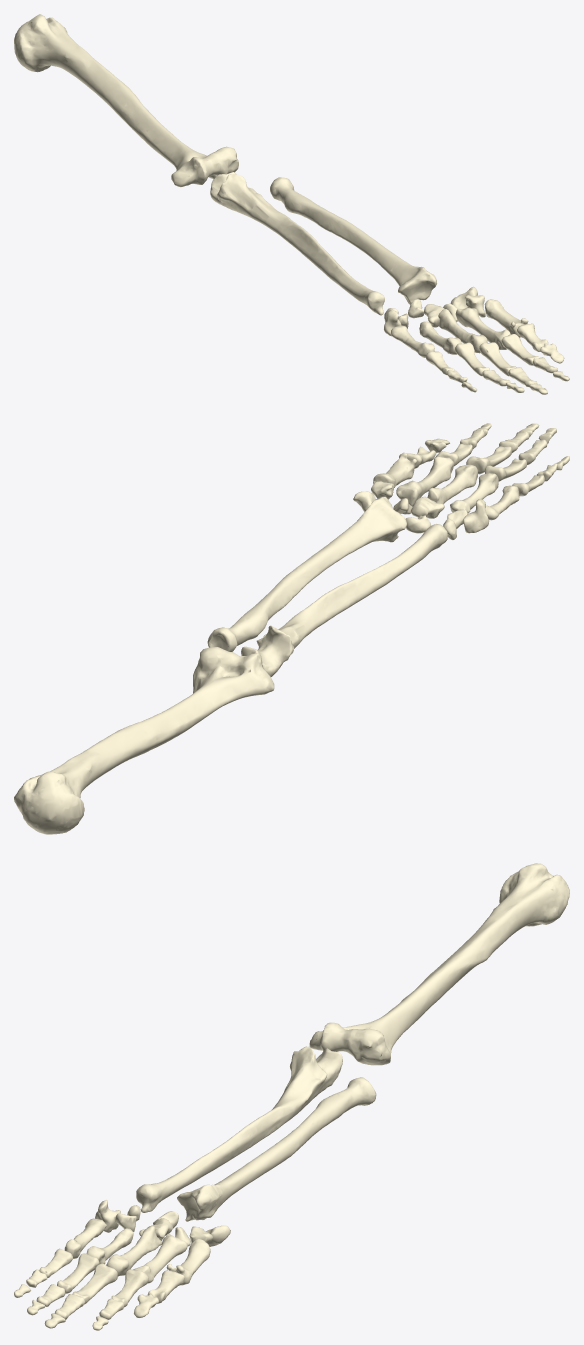
The model's file is anatomia.glb.
The picture shows the model from 3 angles, top to bottom: view 1: azimuth 30°, elevation 25°; view 2: azimuth 150°, elevation 25°; view 3: azimuth 330°, elevation 25°; orthographic projection. The views are drawn at different scales.
Parts seen in each view (by area): view 1: l_humerus, l_ulna, l_radius, l_metacarpal2, l_metacarpal3, l_metacarpal1, l_metacarpal4, l_metacarpal5, l_proximal phalange3, l_proximal phalange2, l_proximal phalange4; view 2: l_humerus, l_radius, l_ulna, l_metacarpal2, l_metacarpal3, l_metacarpal4, l_metacarpal1, l_metacarpal5, l_hamate, l_proximal phalange3, l_capitate; view 3: l_humerus, l_ulna, l_radius, l_metacarpal3, l_metacarpal2, l_metacarpal1, l_proximal phalange3, l_metacarpal5, l_proximal phalange4, l_metacarpal4, l_proximal phalange2, l_proximal phalange1.
Part boxes in pixels (left/top/right/bottom): l_humerus: left=14, top=14, right=238, bottom=187; l_ulna: left=210, top=172, right=384, bottom=315; l_radius: left=270, top=177, right=436, bottom=304; l_metacarpal2: left=455, top=308, right=510, bottom=349; l_metacarpal3: left=438, top=309, right=487, bottom=353; l_metacarpal1: left=484, top=299, right=528, bottom=337; l_metacarpal4: left=419, top=321, right=461, bottom=354; l_metacarpal5: left=390, top=325, right=434, bottom=357; l_proximal phalange3: left=479, top=342, right=516, bottom=376; l_proximal phalange2: left=501, top=334, right=539, bottom=365; l_proximal phalange4: left=455, top=342, right=489, bottom=376; l_humerus: left=14, top=647, right=274, bottom=834; l_radius: left=207, top=496, right=406, bottom=651; l_ulna: left=241, top=524, right=447, bottom=676; l_metacarpal2: left=396, top=456, right=453, bottom=506; l_metacarpal3: left=427, top=464, right=477, bottom=504; l_metacarpal4: left=450, top=473, right=498, bottom=513; l_metacarpal1: left=373, top=452, right=417, bottom=487; l_metacarpal5: left=485, top=485, right=519, bottom=520; l_hamate: left=463, top=499, right=489, bottom=533; l_proximal phalange3: left=466, top=446, right=511, bottom=474; l_capitate: left=411, top=496, right=444, bottom=518; l_humerus: left=309, top=863, right=569, bottom=1065; l_ulna: left=136, top=1046, right=342, bottom=1212; l_radius: left=177, top=1077, right=376, bottom=1221; l_metacarpal3: left=106, top=1226, right=162, bottom=1276; l_metacarpal2: left=133, top=1233, right=187, bottom=1283; l_metacarpal1: left=166, top=1238, right=210, bottom=1285; l_proximal phalange3: left=72, top=1263, right=117, bottom=1304; l_metacarpal5: left=64, top=1218, right=106, bottom=1258; l_proximal phalange4: left=57, top=1253, right=99, bottom=1293; l_metacarpal4: left=86, top=1228, right=133, bottom=1264; l_proximal phalange2: left=111, top=1269, right=148, bottom=1307; l_proximal phalange1: left=147, top=1270, right=184, bottom=1303.
Bounding box in the file's own units: 3.43 × 1.42 × 22.41.
